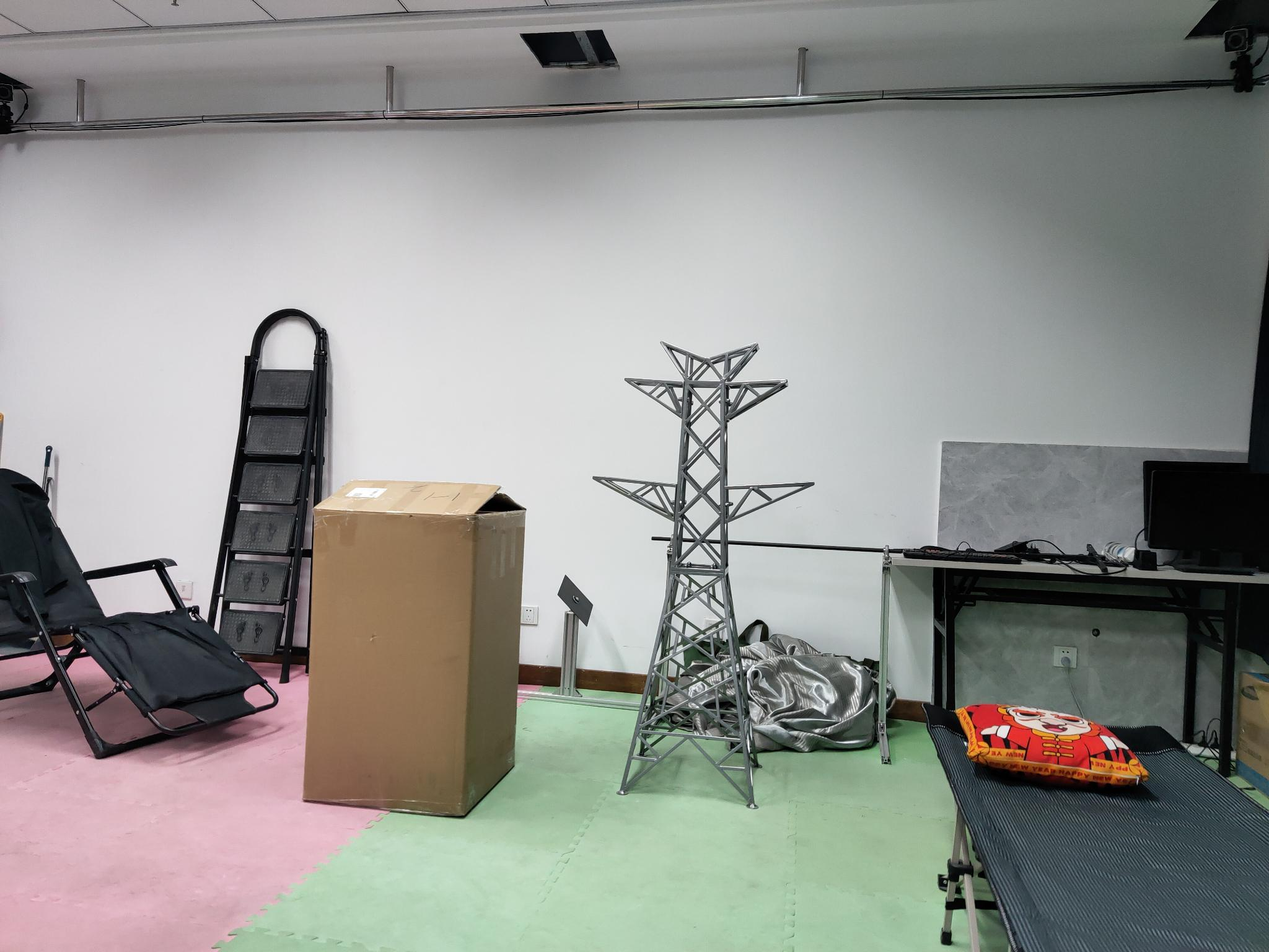tower: (589, 340, 813, 814)
